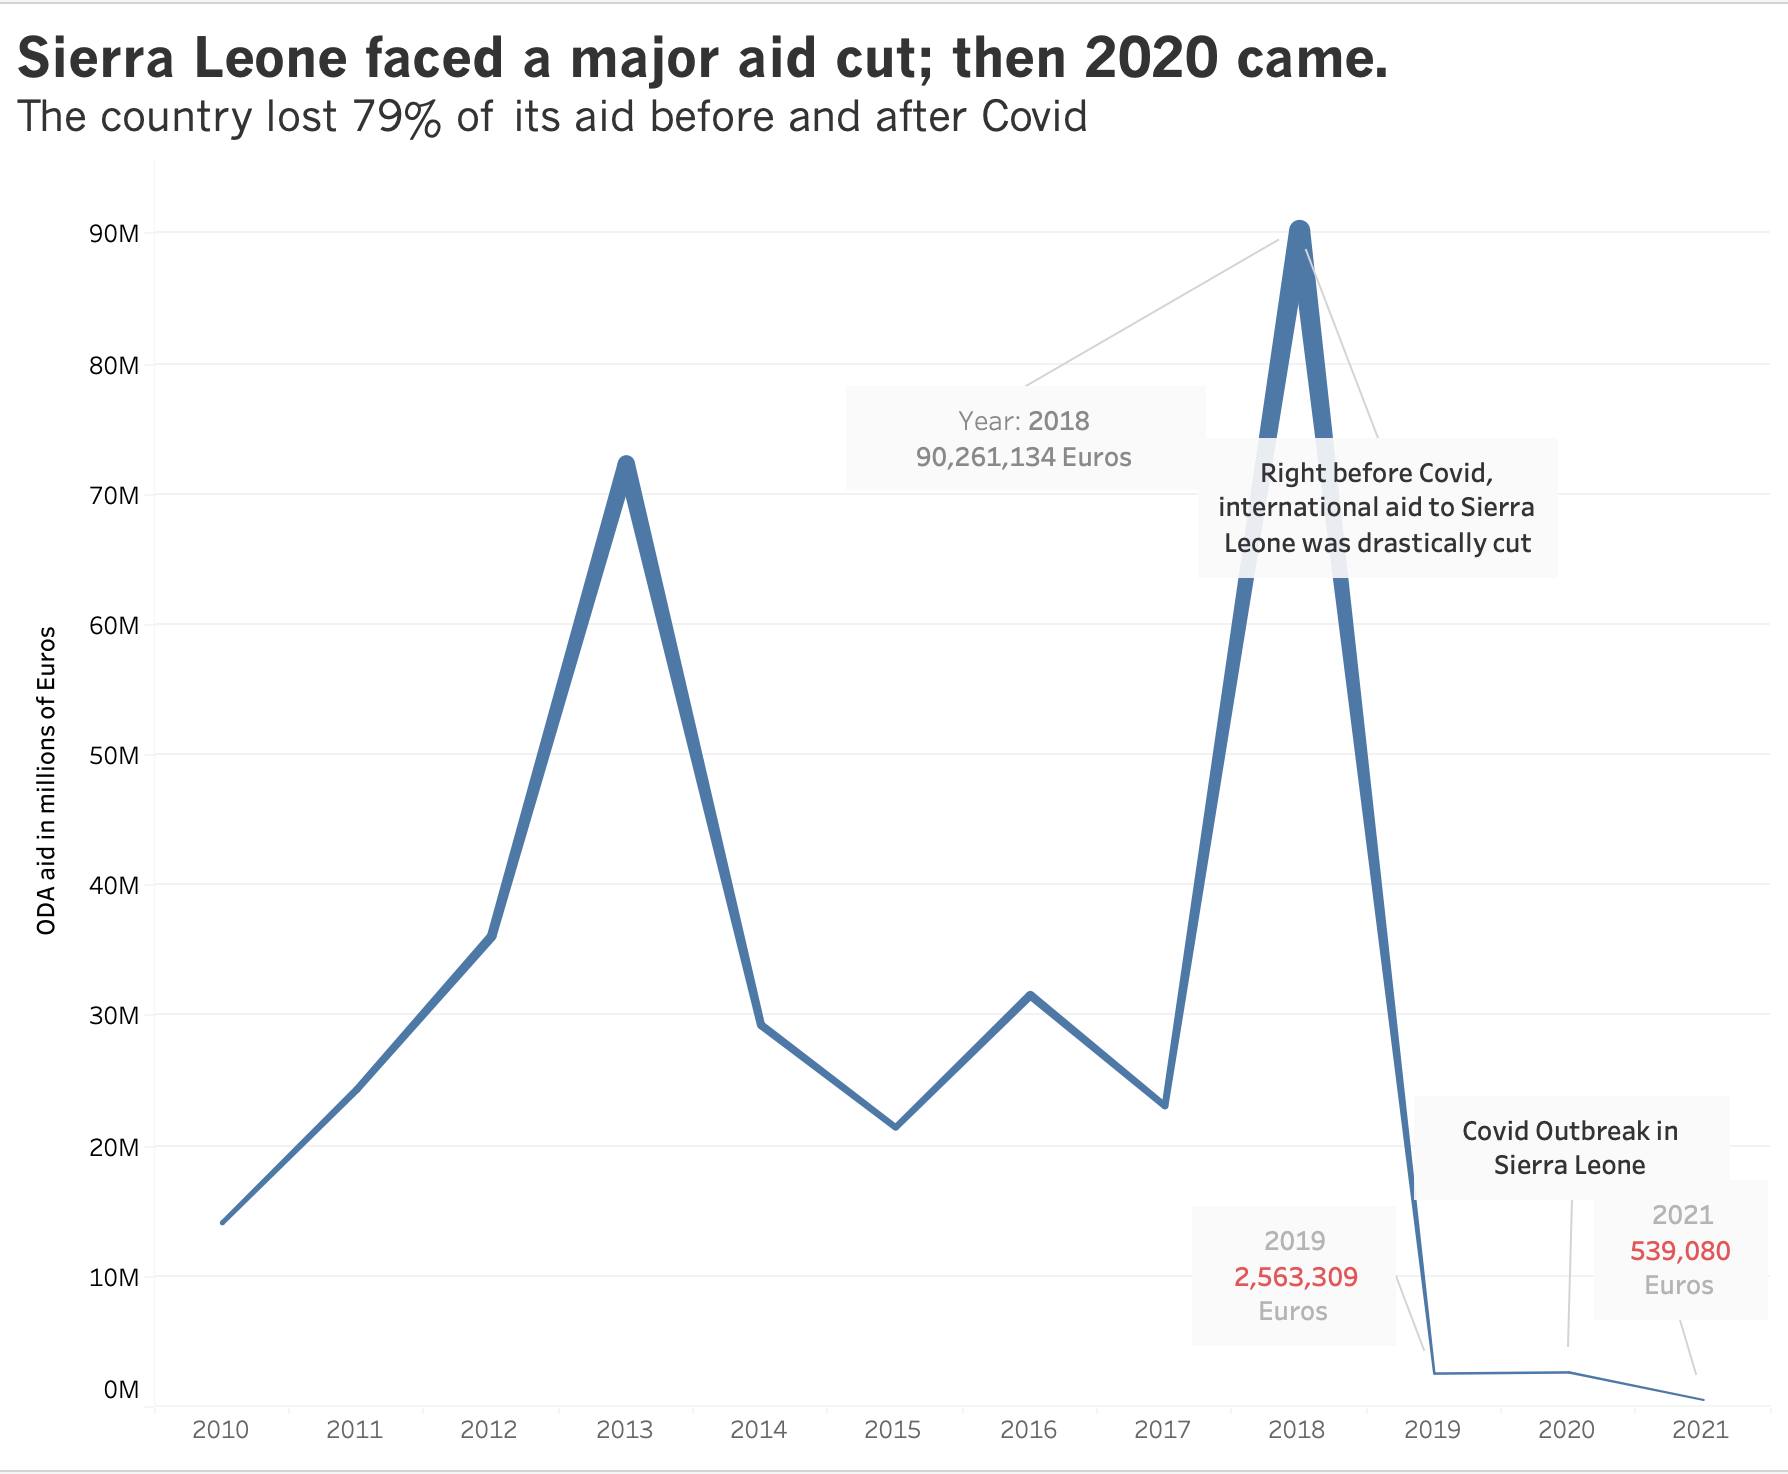

The page's visual inventory and layout, read from the dashboard file:
{"tool":"tableau","page":{"name":"Dashboard 2","canvas":[1000,1000],"units":"permille","ordinal":1},"visuals":[{"type":"worksheet","title":"D2 -aid_by country_by year","mark":"Line","cols":["year-start"],"box":[6.8,11.7,849.8,976.6]},{"type":"filter","title":"D2 -aid_by country_by year","param":"[federated.1ifdxpb1ro169318djfqq09140il].[none:recipient-country:nk]","box":[857.5,13.1,134.8,75.9]},{"type":"filter","title":"D2 -aid_by country_by year","param":"[federated.1ifdxpb1ro169318djfqq09140il].[tyr:year-start:ok]","box":[857.5,89,134.8,75.9]},{"type":"filter","title":"D2 -aid_by country_by year","param":"[federated.1ifdxpb1ro169318djfqq09140il].[none:participating-org (Funding):nk]","box":[857.5,165,134.8,75.9]}]}

Visuals, with their boxes on the dashboard's canvas, which has no fixed pixel size, in thousandths of its width and height (x1, y1, x2, y2). These are canvas units, not pixel positions in the 1788x1474 screenshot, which may show the page scaled, cropped or inside an application window:
"D2 -aid_by country_by year" worksheet (Line marks): left=7, top=12, right=857, bottom=988
"D2 -aid_by country_by year" filter: left=858, top=13, right=992, bottom=89
"D2 -aid_by country_by year" filter: left=858, top=89, right=992, bottom=165
"D2 -aid_by country_by year" filter: left=858, top=165, right=992, bottom=241
